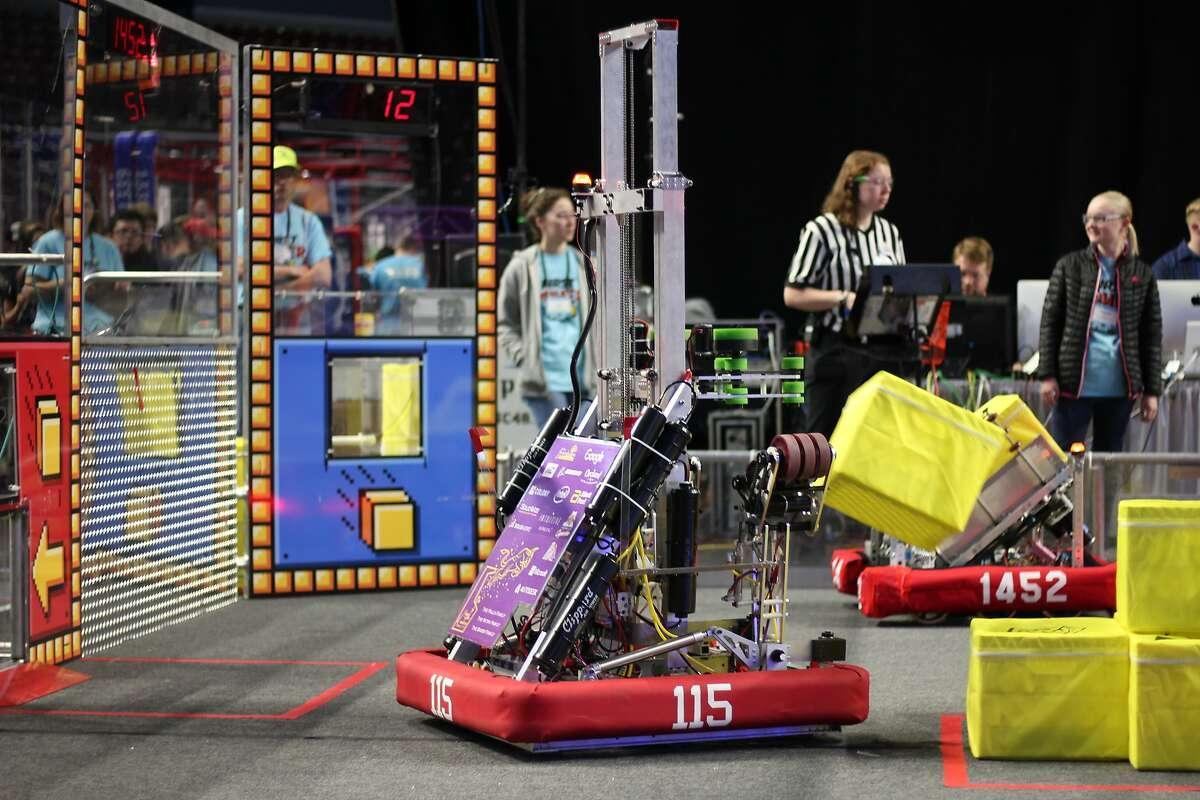robot: (391, 9, 877, 762), (829, 336, 1128, 622)
